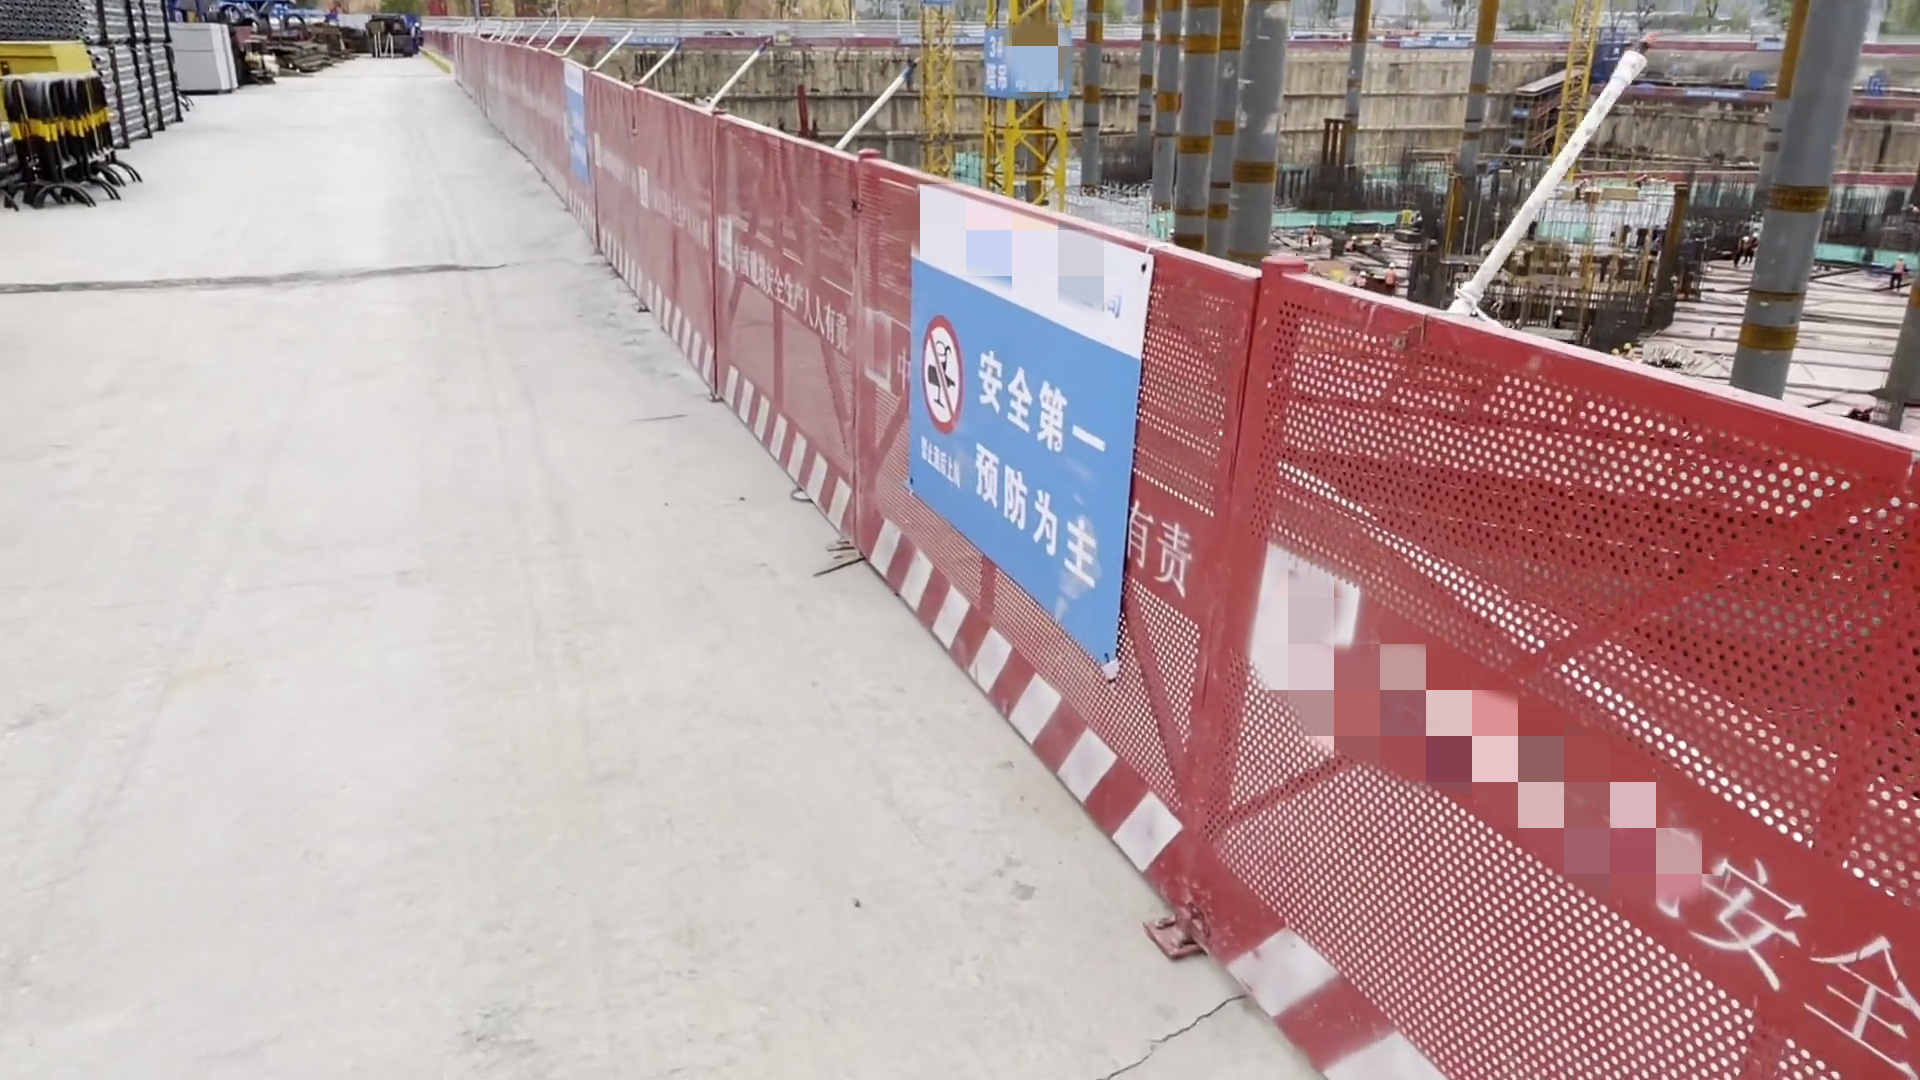fence: (429, 22, 1904, 1069)
slogan: (909, 175, 1160, 665)
